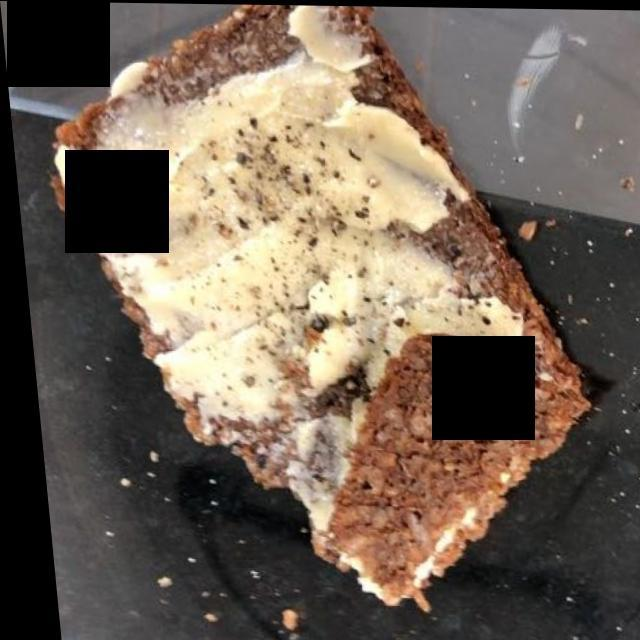bread: (56, 16, 575, 595)
butter: (35, 9, 527, 527)
